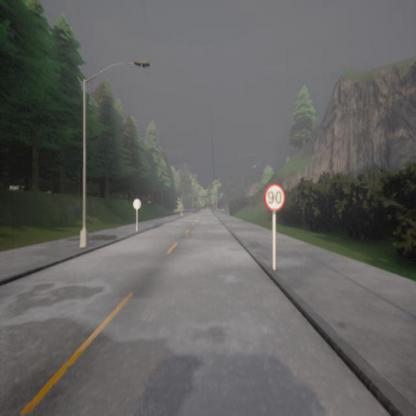traffic_sign_90: (264, 184, 285, 210)
